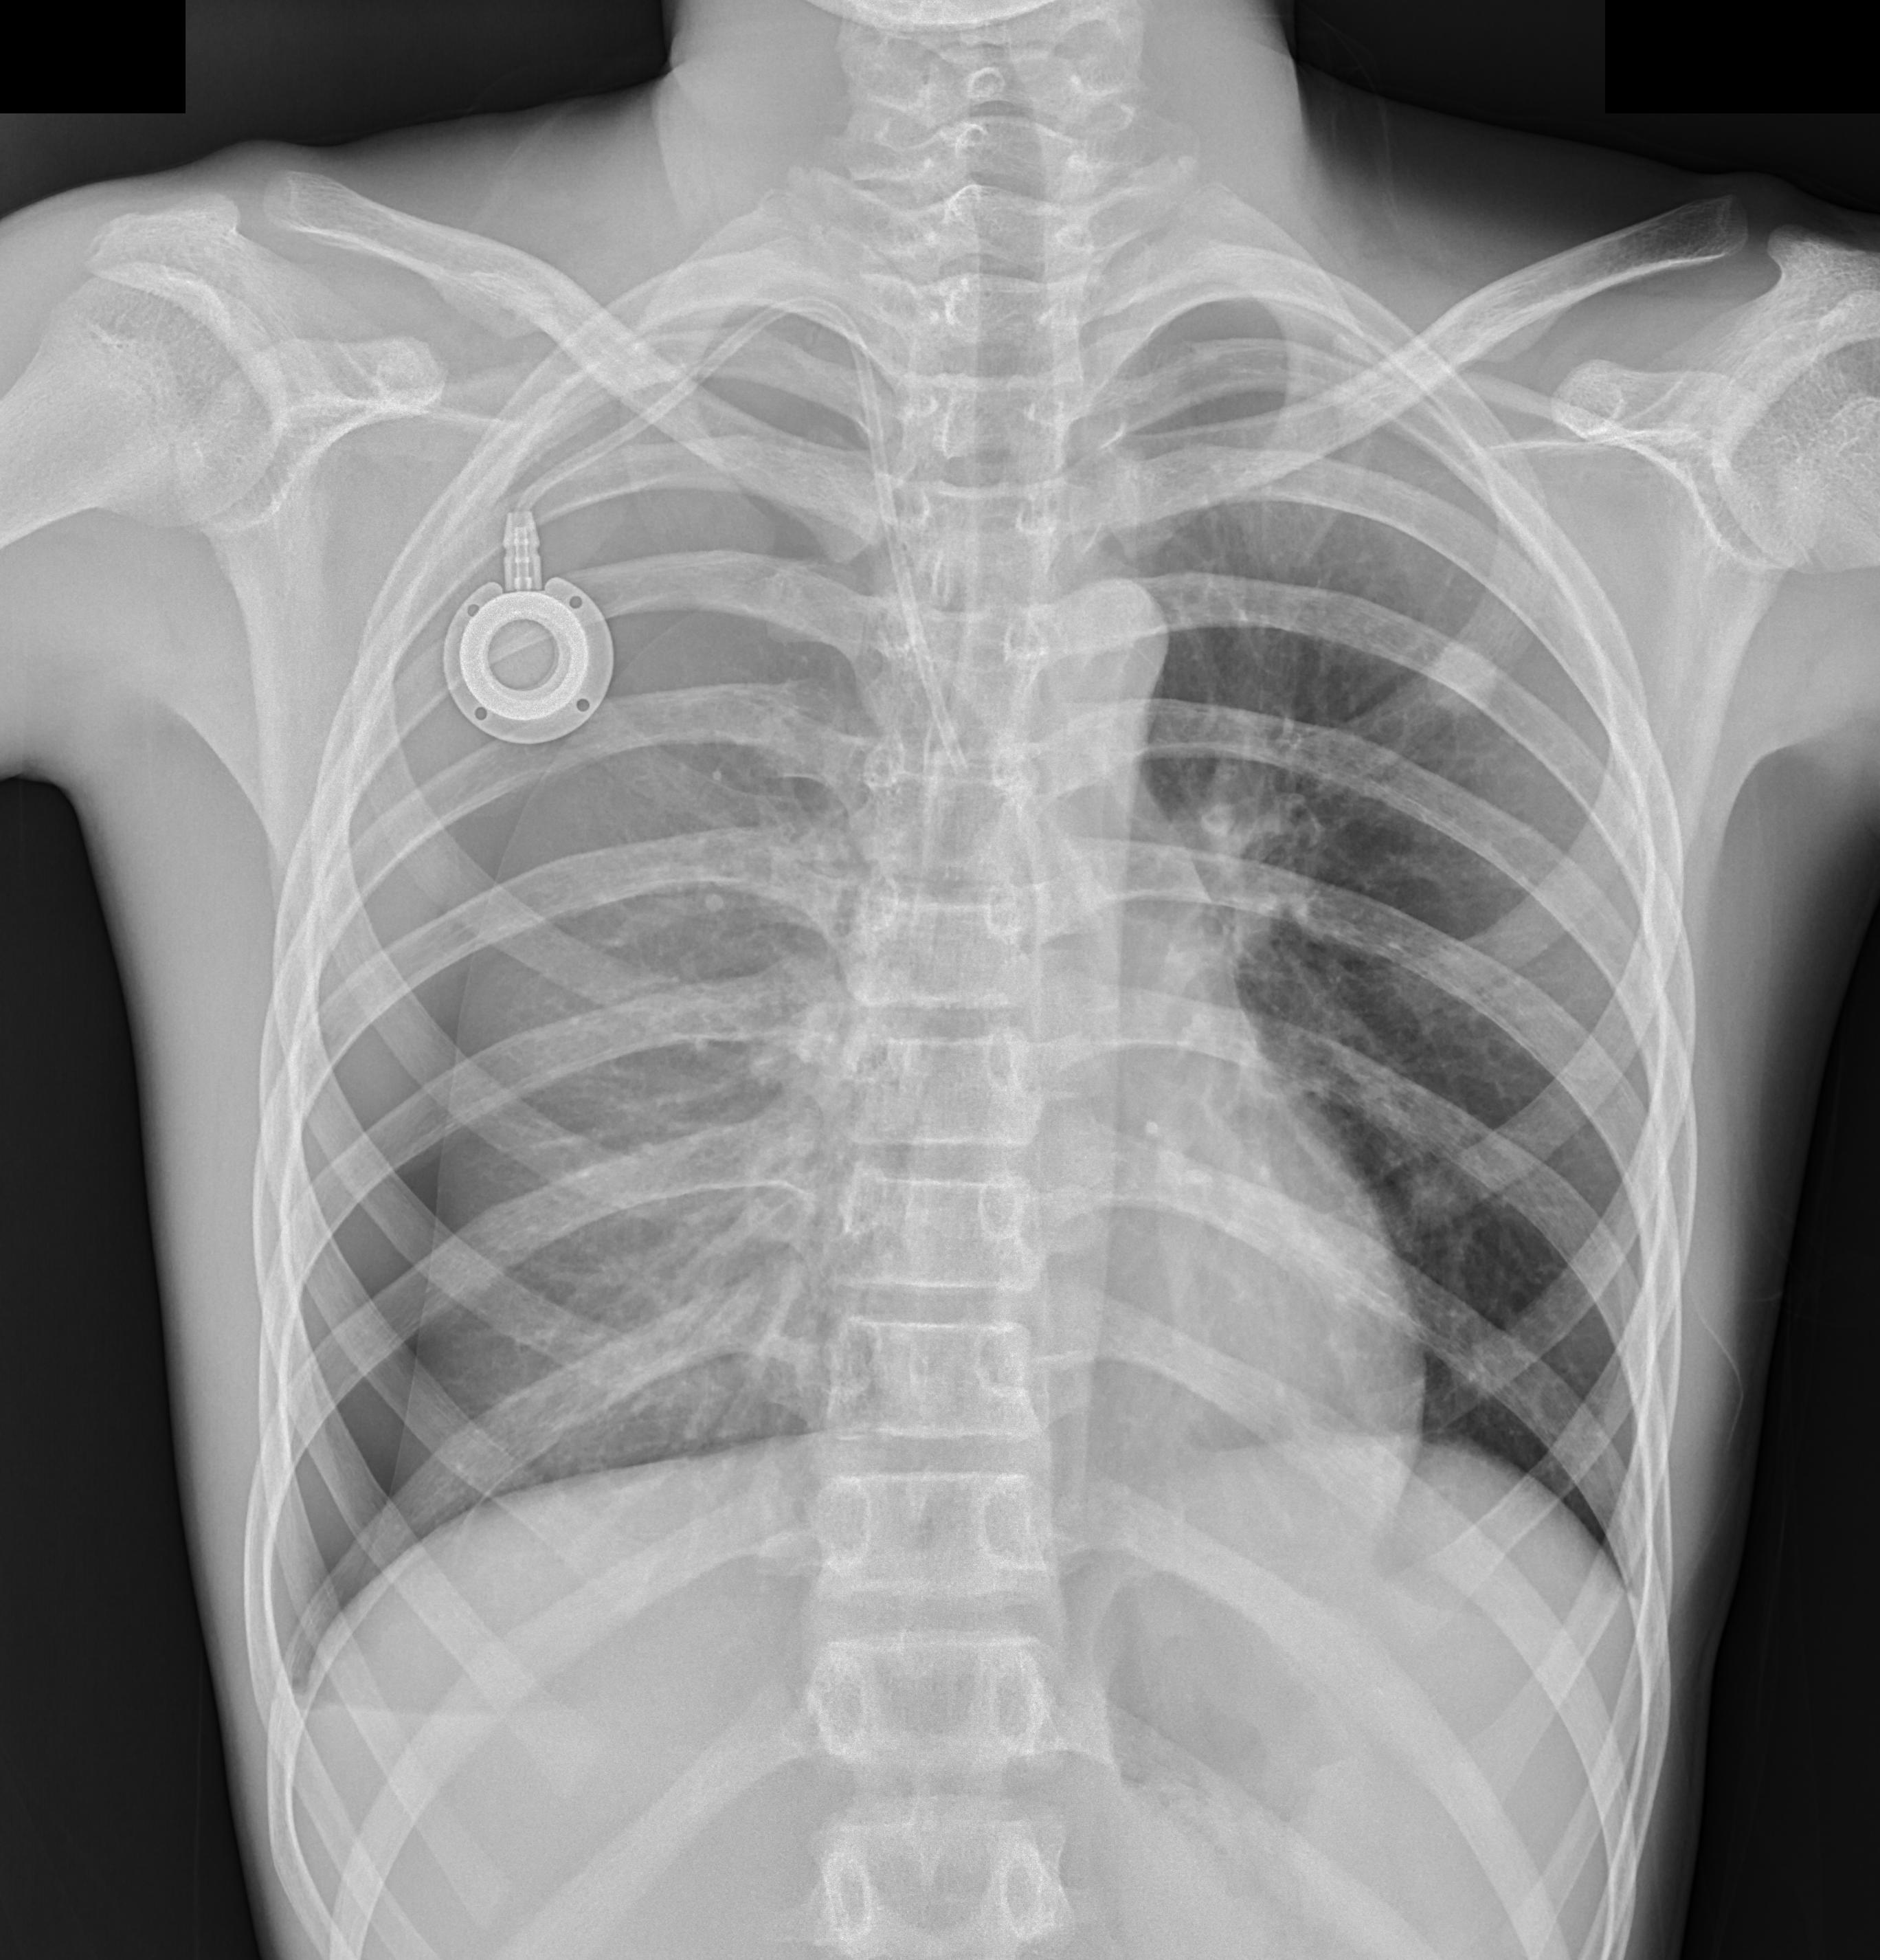nodule_mass: (1423, 637, 1498, 717), (1427, 633, 1498, 717), (1421, 646, 1497, 709)
pneumothorax: (254, 289, 908, 1676), (280, 285, 893, 1729), (277, 273, 898, 1694)
